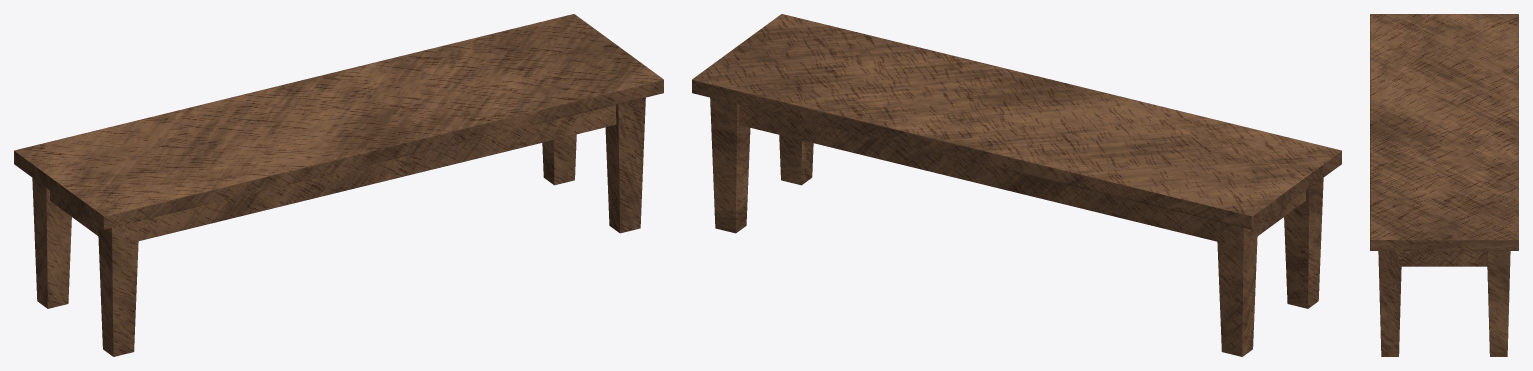
The model's file is banco.fbx.
3 views of the same model, side by side, from view 1: azimuth 30°, elevation 25°; view 2: azimuth 150°, elevation 25°; view 3: azimuth 270°, elevation 25° (orthographic). The views are drawn at different scales.
Parts seen in each view (by area): view 1: DNLR Bench.Shape; view 2: DNLR Bench.Shape; view 3: DNLR Bench.Shape.
Part boxes in pixels (x1,y1,x2,y2): DNLR Bench.Shape: [14, 14, 663, 356]; DNLR Bench.Shape: [692, 14, 1341, 356]; DNLR Bench.Shape: [1370, 14, 1518, 356].
Size of the model in its own units: 173 by 44.19 by 48.14.
Materials: 1 (1 with a texture image).
